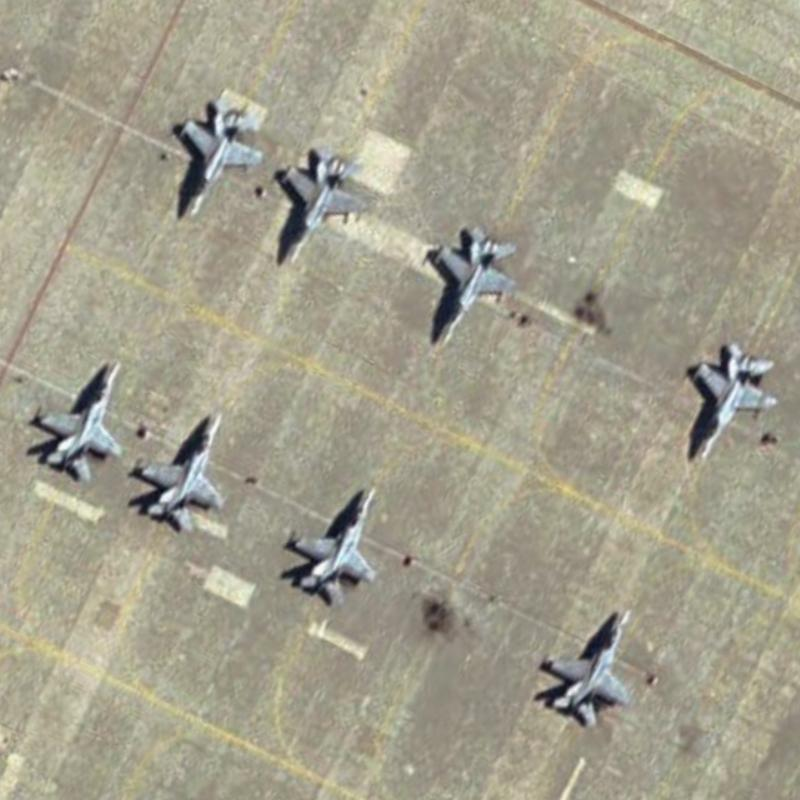A16: (681, 334, 784, 471), (164, 97, 270, 226), (417, 220, 519, 354), (25, 354, 125, 488), (281, 481, 384, 611), (268, 139, 367, 273), (534, 603, 634, 733), (132, 408, 227, 536)
